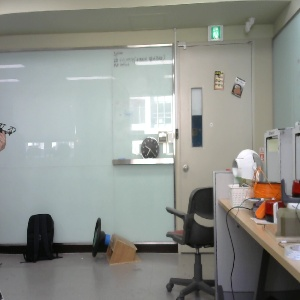Drone: (1, 119, 19, 149)
